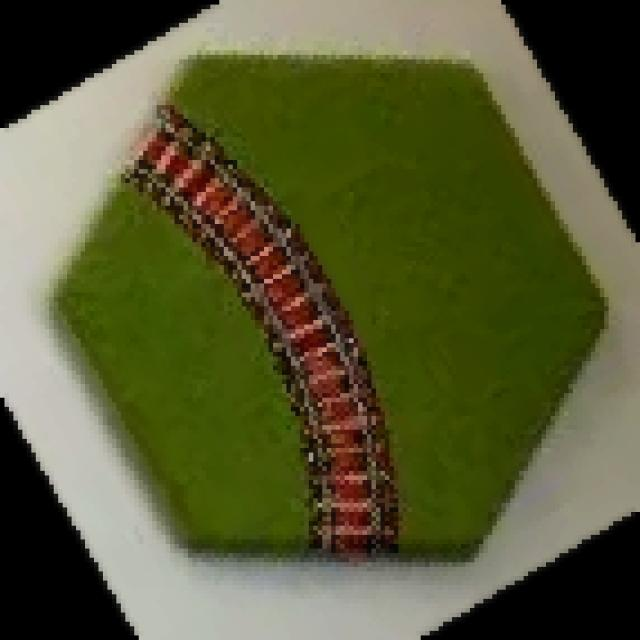2_5: (55, 51, 612, 568)
